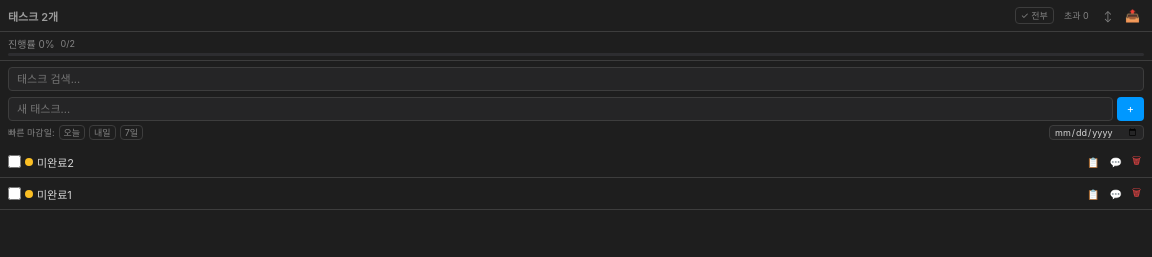
TasksPanel › ✓ 전부 버튼 클릭 시 미완료 태스크가 모두 완료된다
Step 1. Click the button titled "모두 완료 처리" → (1034, 16), box [1015,7,1054,24]
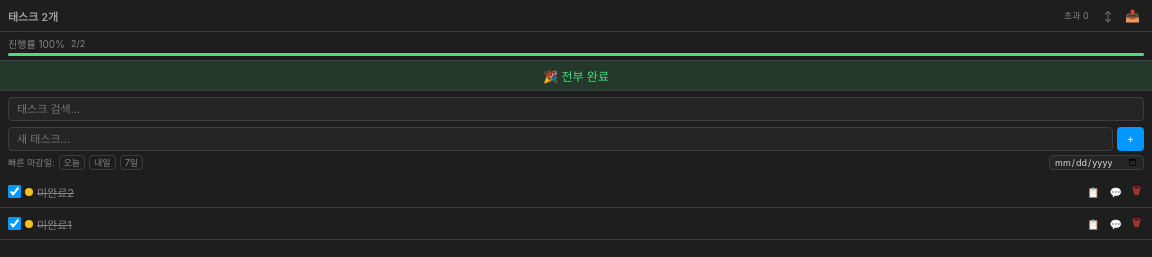
Result: the checkbox next to "미완료2" is checked at [8,185,21,198]
Result: the checkbox next to "미완료1" is checked at [8,217,21,230]
